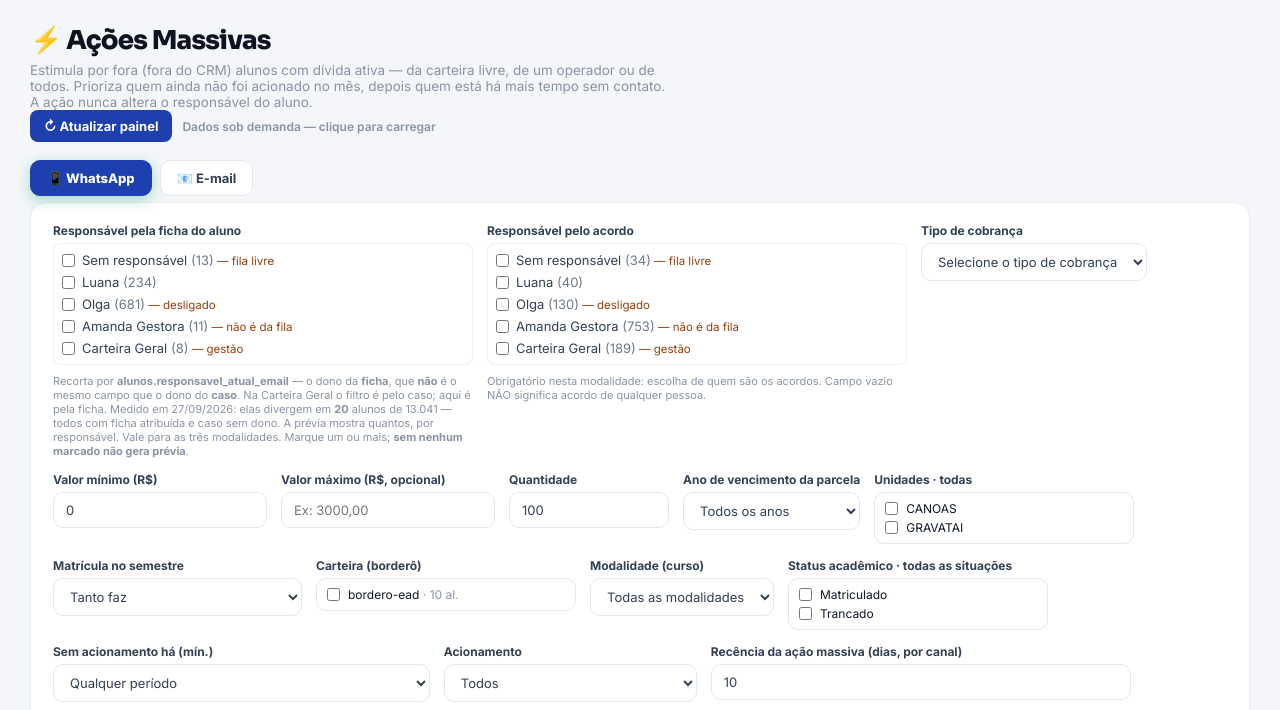
Scenario: Ações Massivas — liquidados no Prime › diz a regra e a data do extrato do Prime usado na prévia
Expected: the checkbox labelled "Matriculado" is shown, [799,588,812,601]
Expected: the element with test id "resp-caso" is shown, [53,243,473,365]
Click the checkbox with id "resp-caso-SEM_RESPONSAVEL": click(68, 260) [62,254,75,266]
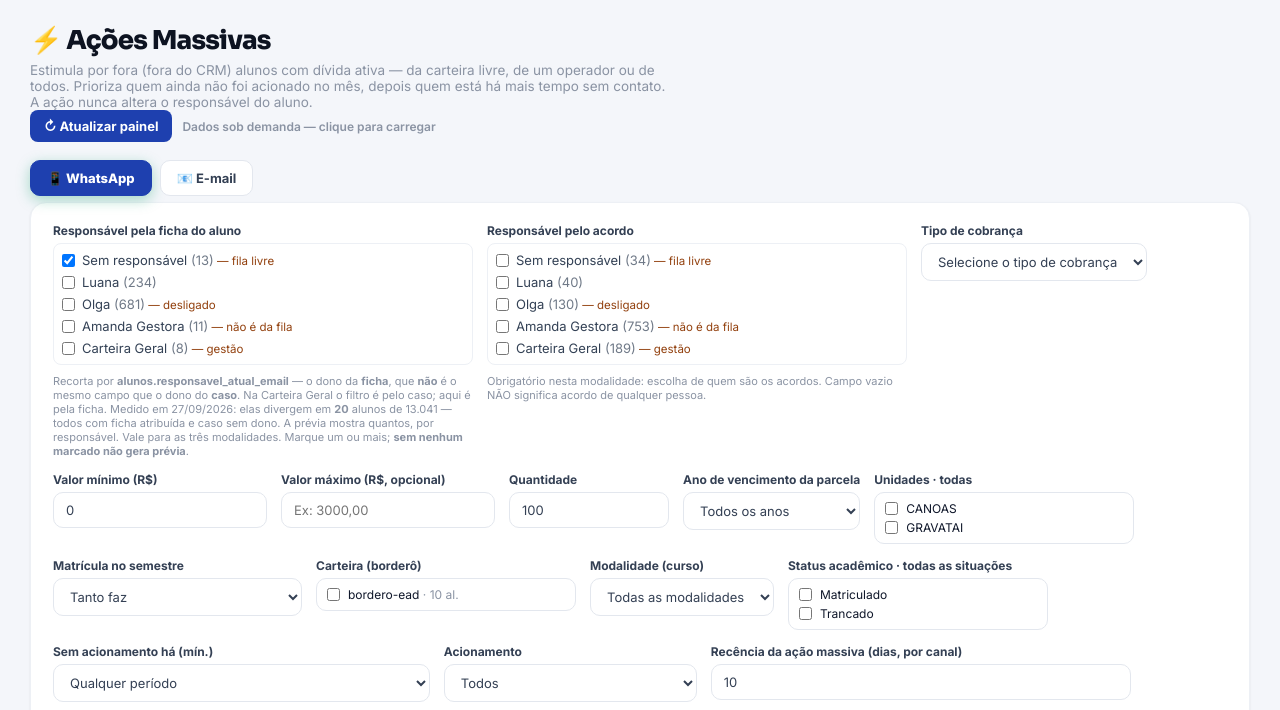
Select "Somente mensalidades" in the dropdown labelled "Tipo de cobrança": (1034, 262) [921,243,1147,281]
(page scrolled)
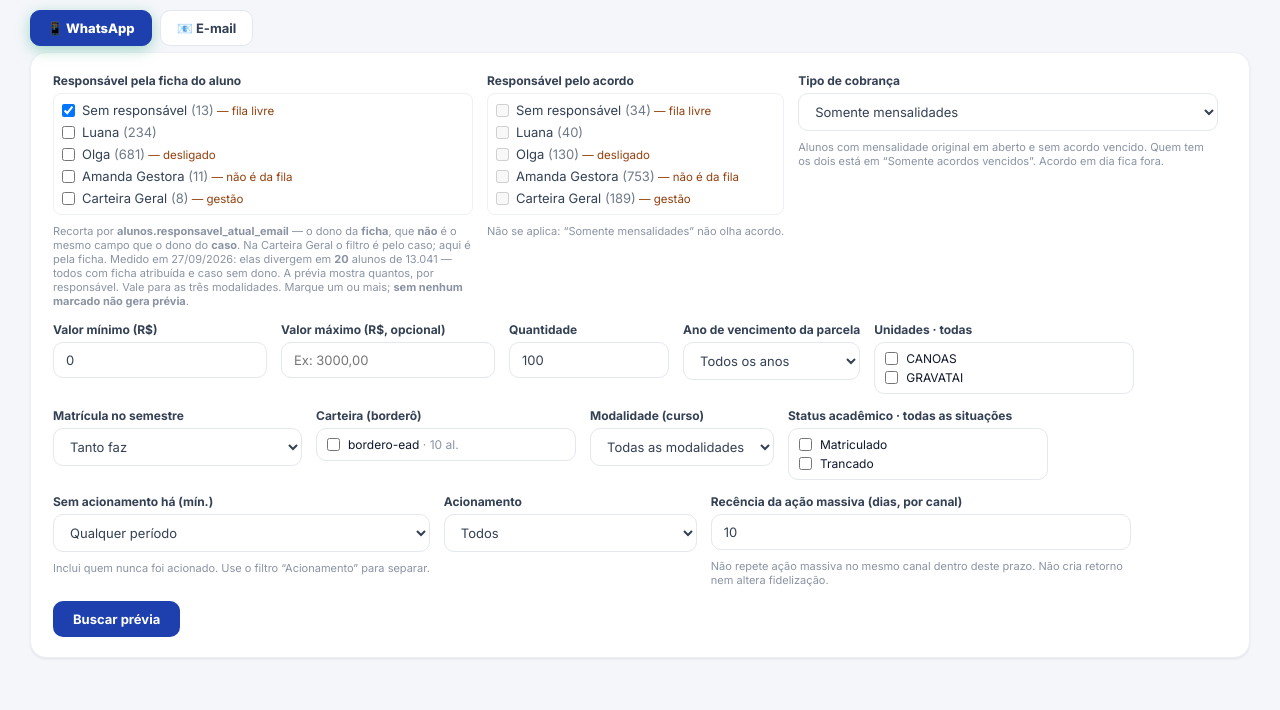
Click the button "Buscar prévia": click(117, 619) [53,601,180,637]
(page scrolled)
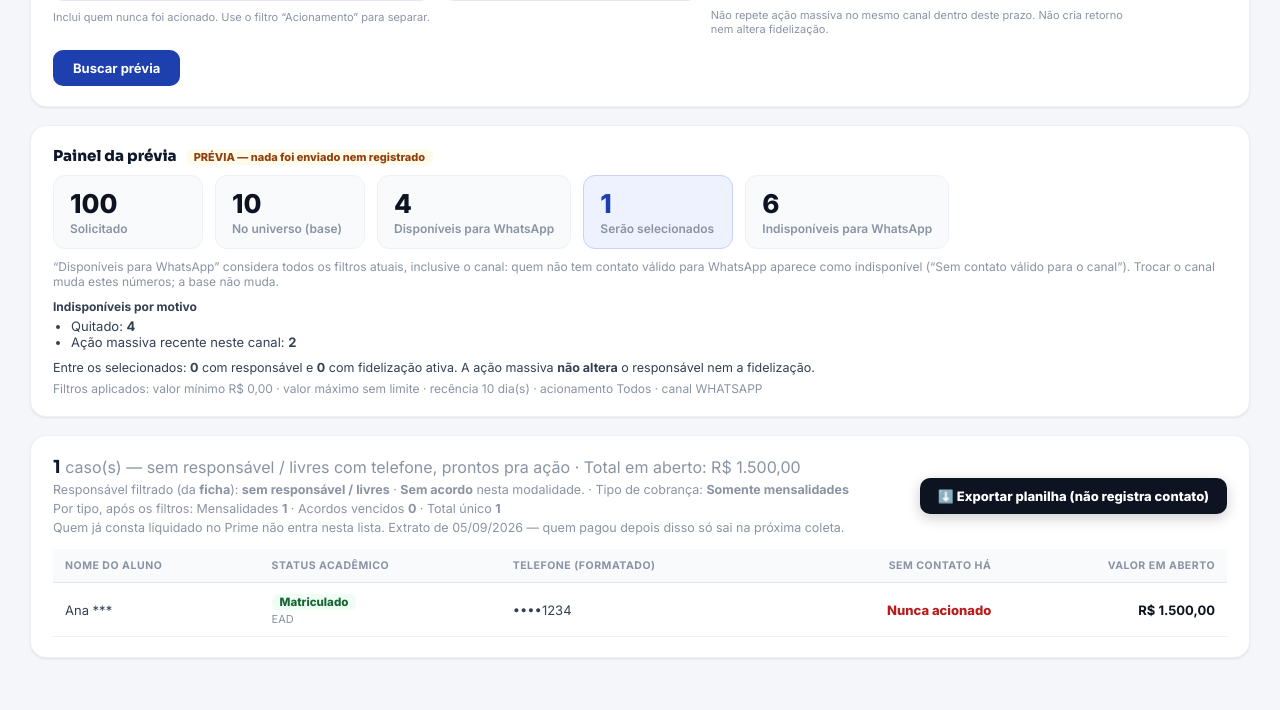
Now the text "Quem já consta liquidado no Prime não entra nesta lista" is shown, box [53,520,449,535]
Now the text "05/09/2026" is shown, box [452,520,523,535]
